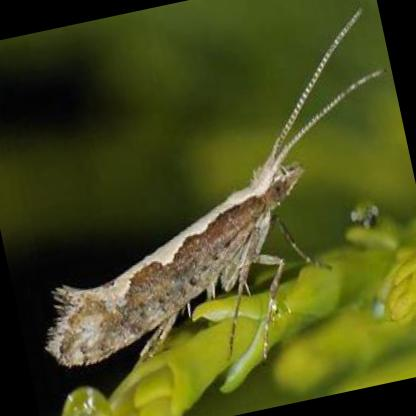plutella: (41, 0, 391, 371)
